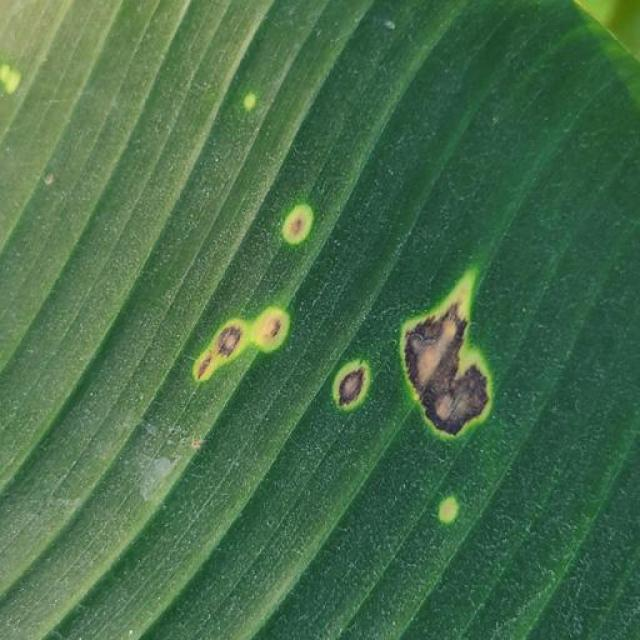Early_rust: (145, 169, 566, 568)
